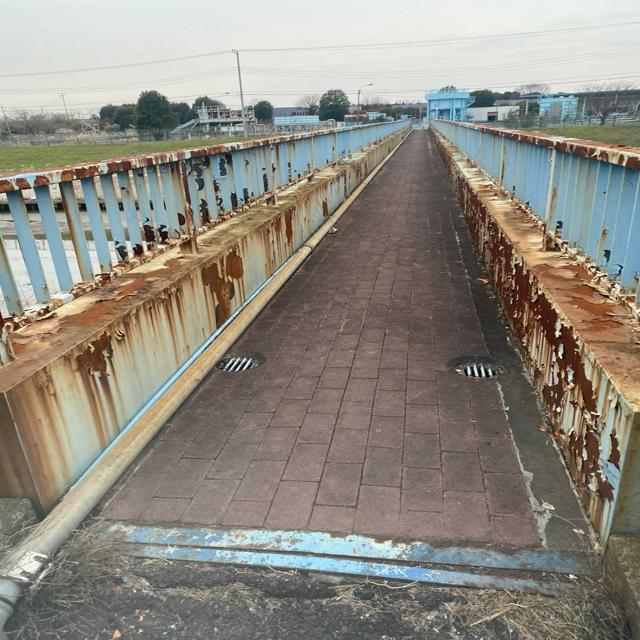corrosion: (3, 146, 258, 543), (436, 97, 627, 484)
